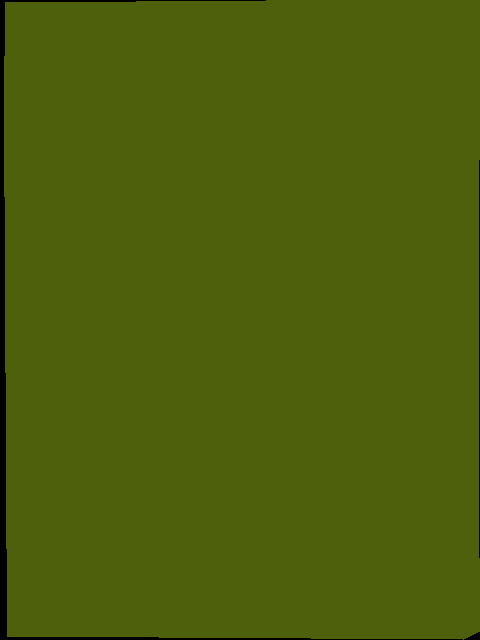Train: (4, 0, 480, 639)
